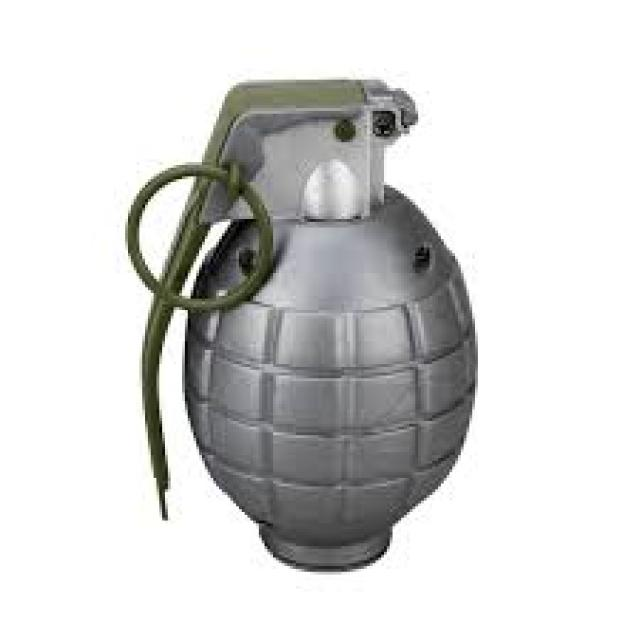grenade: (118, 68, 486, 575)
